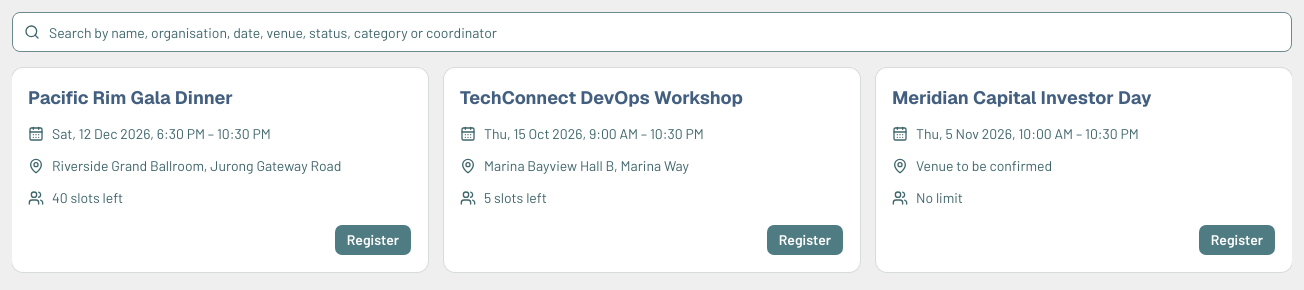
Test case: SCRUM-9/AC3 event search: no matches › 9-S22: says no events match what was typed, and shows no cards
Replace the text in the search field named "Search events" with "zebra": (652, 32) [12,12,1292,52]
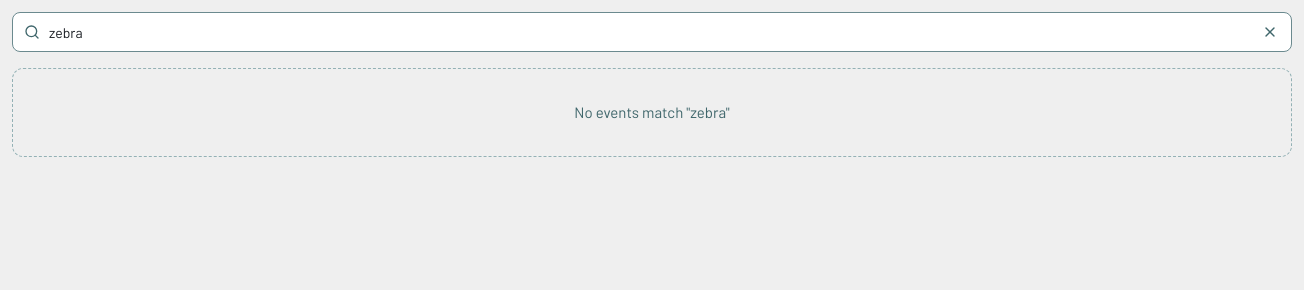
Check: the text "No events match \"zebra\"" is shown, box [12,68,1292,156]
